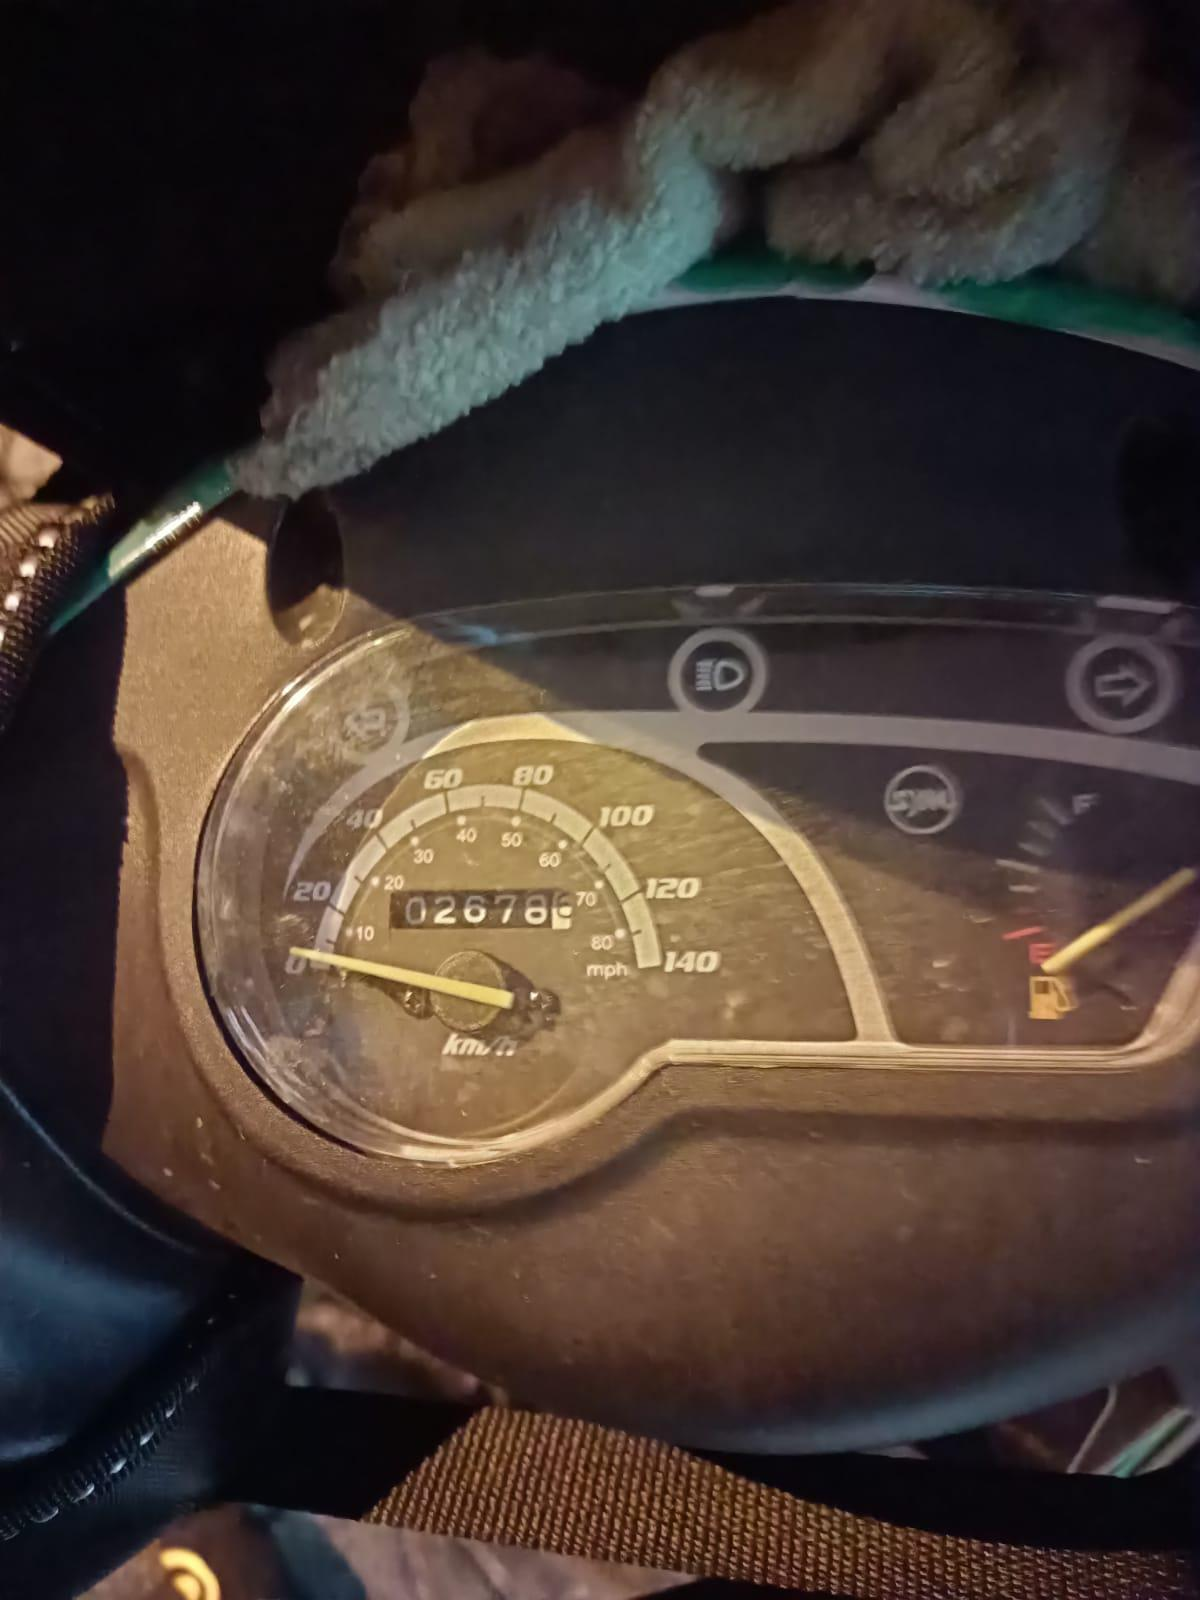0: (402, 894, 429, 927)
2: (432, 893, 458, 927)
6: (463, 893, 487, 923), (555, 889, 574, 923)
7: (492, 889, 517, 925)
8: (523, 892, 550, 926)
odometer: (387, 887, 577, 935)
